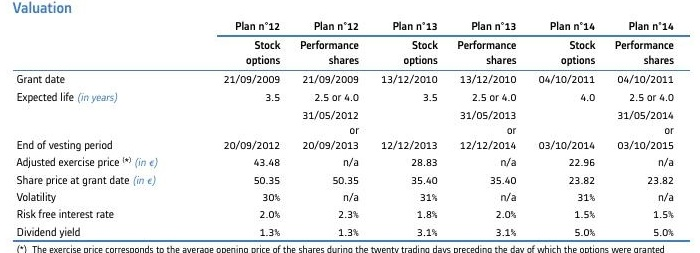table: (0, 0, 700, 253)
